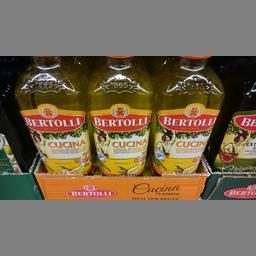oil: (12, 56, 90, 174), (151, 54, 224, 172), (84, 57, 154, 174)
